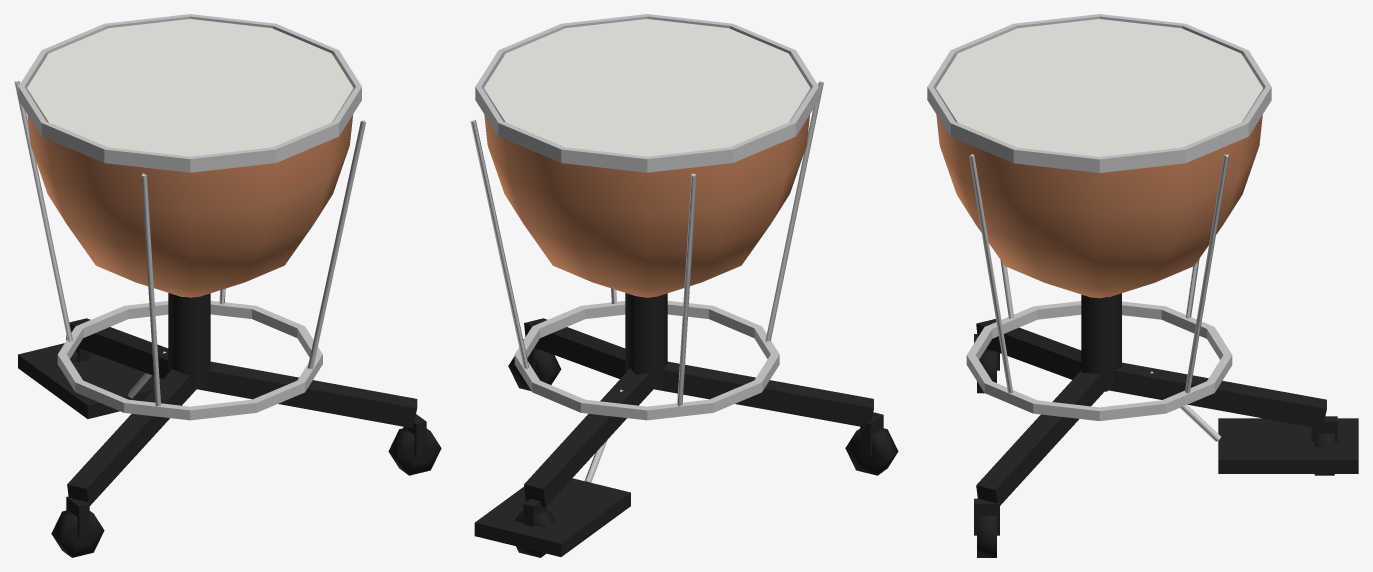
File: timpani-26-low.glb
The picture shows the model from 3 angles, left to right: view 1: azimuth 30°, elevation 25°; view 2: azimuth 150°, elevation 25°; view 3: azimuth 270°, elevation 25°; orthographic projection.
Parts seen in each view (by area): view 1: head, copper, frame, metal, rubber; view 2: head, copper, frame, metal, rubber; view 3: head, copper, frame, metal, rubber.
Boxes of the visible parts, left/top/right/bottom form: head: left=27, top=19, right=353, bottom=156; copper: left=27, top=114, right=353, bottom=297; frame: left=18, top=293, right=426, bottom=537; metal: left=14, top=14, right=365, bottom=420; rubber: left=51, top=351, right=441, bottom=557; head: left=484, top=19, right=810, bottom=156; copper: left=484, top=115, right=809, bottom=297; frame: left=474, top=293, right=883, bottom=556; metal: left=470, top=14, right=823, bottom=482; rubber: left=508, top=349, right=898, bottom=557; head: left=936, top=19, right=1263, bottom=156; copper: left=936, top=115, right=1262, bottom=298; frame: left=974, top=293, right=1358, bottom=535; metal: left=927, top=14, right=1271, bottom=441; rubber: left=977, top=351, right=1334, bottom=557.
Bounding box in the file's own units: 0.8798 × 0.8463 × 0.8619.
